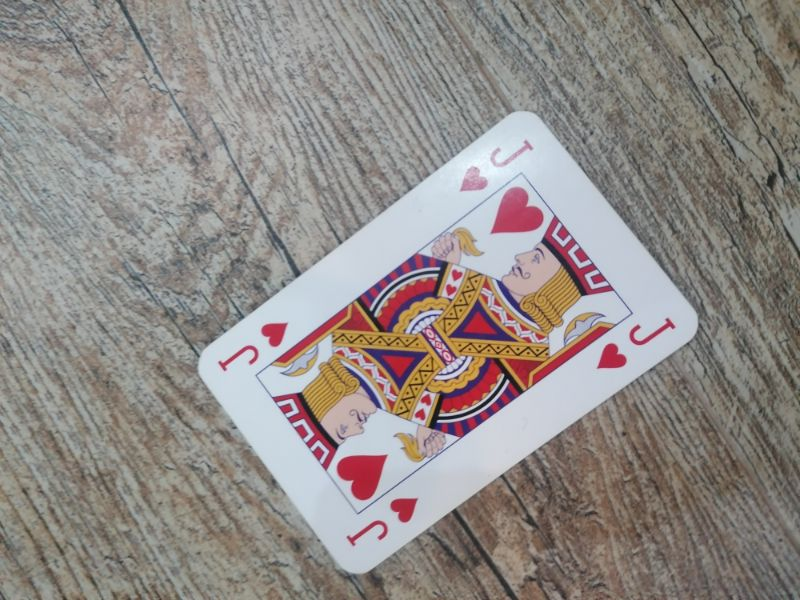Jh: (595, 308, 678, 378), (456, 130, 536, 201), (344, 495, 420, 559), (214, 318, 293, 377)
